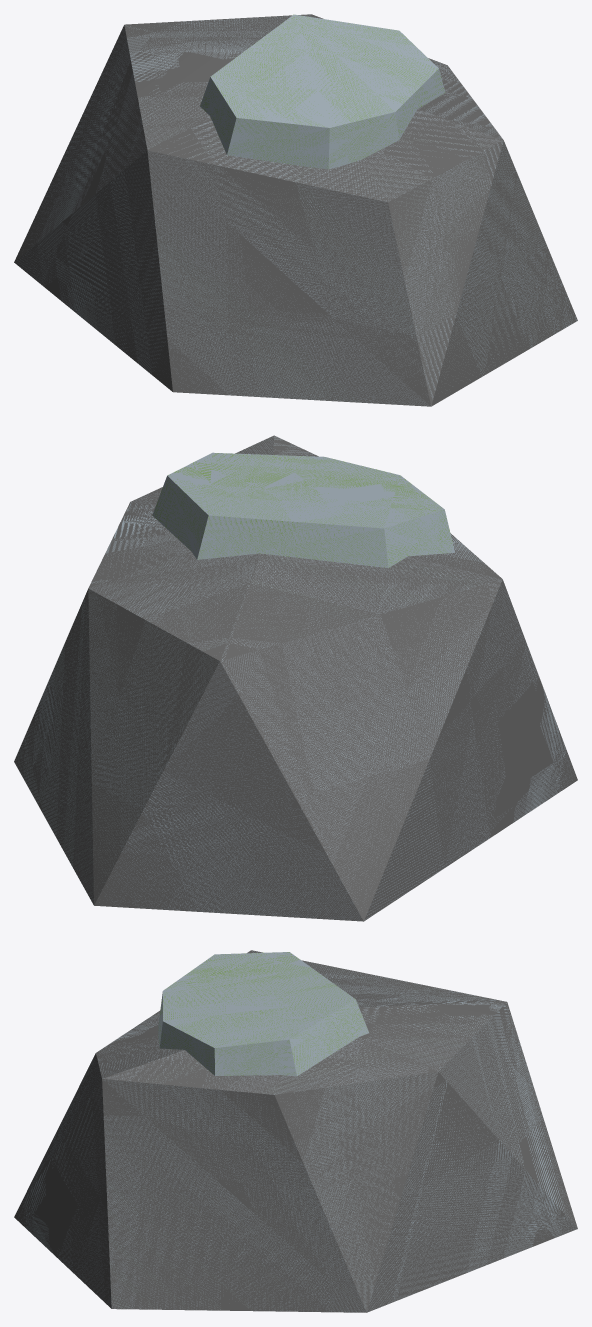
File: Rock_Small_Grass_02.fbx
The picture shows the model from 3 angles, top to bottom: view 1: azimuth 30°, elevation 25°; view 2: azimuth 150°, elevation 25°; view 3: azimuth 270°, elevation 25°; orthographic projection. The views are drawn at different scales.
Parts seen in each view (by area): view 1: Model; view 2: Model; view 3: Model.
Part boxes in pixels (<box>): Model: <box>14,14,577,406</box>; Model: <box>14,435,577,921</box>; Model: <box>14,950,577,1312</box>.
Bounding box in the file's own units: 82.66 × 63.11 × 110.
